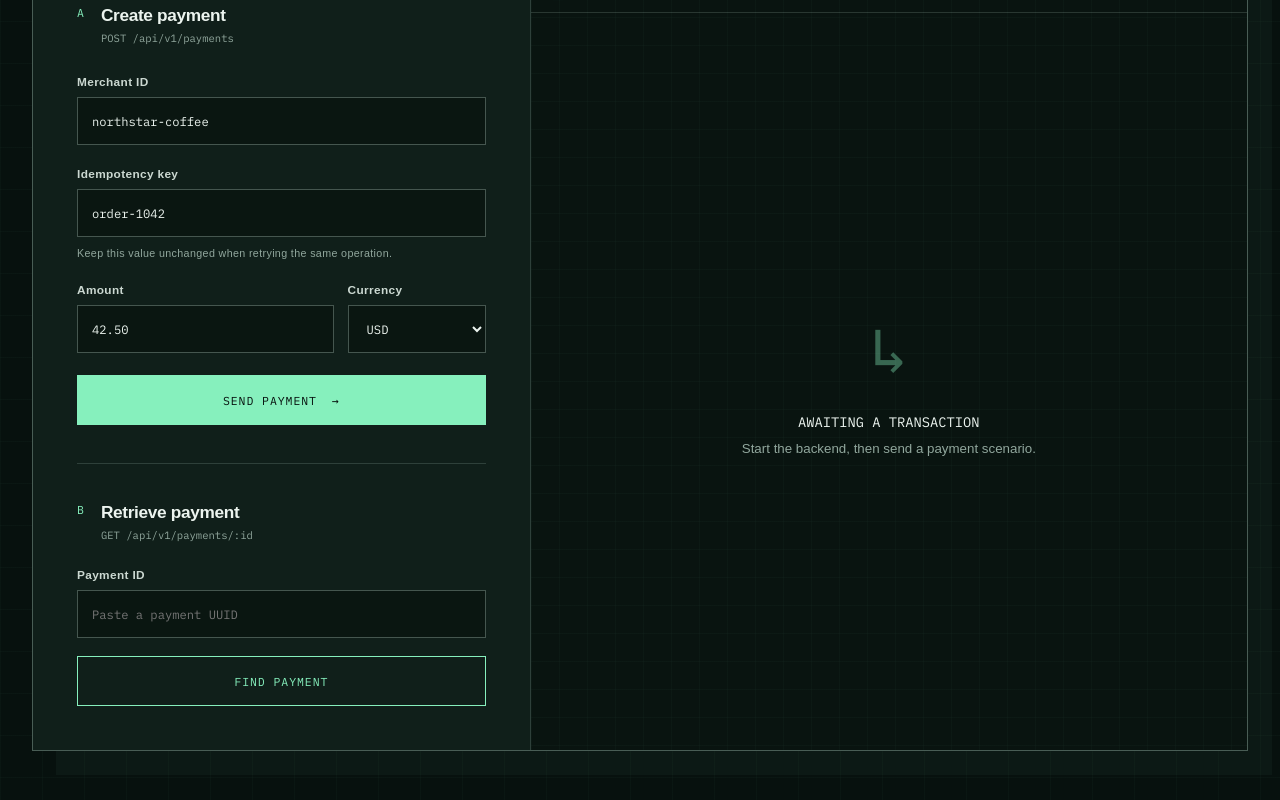
Scenario: Payment Reliability Console › makes an idempotency conflict understandable
(page scrolled)
Click the button "Send payment →": (281, 400) [77,375,486,425]
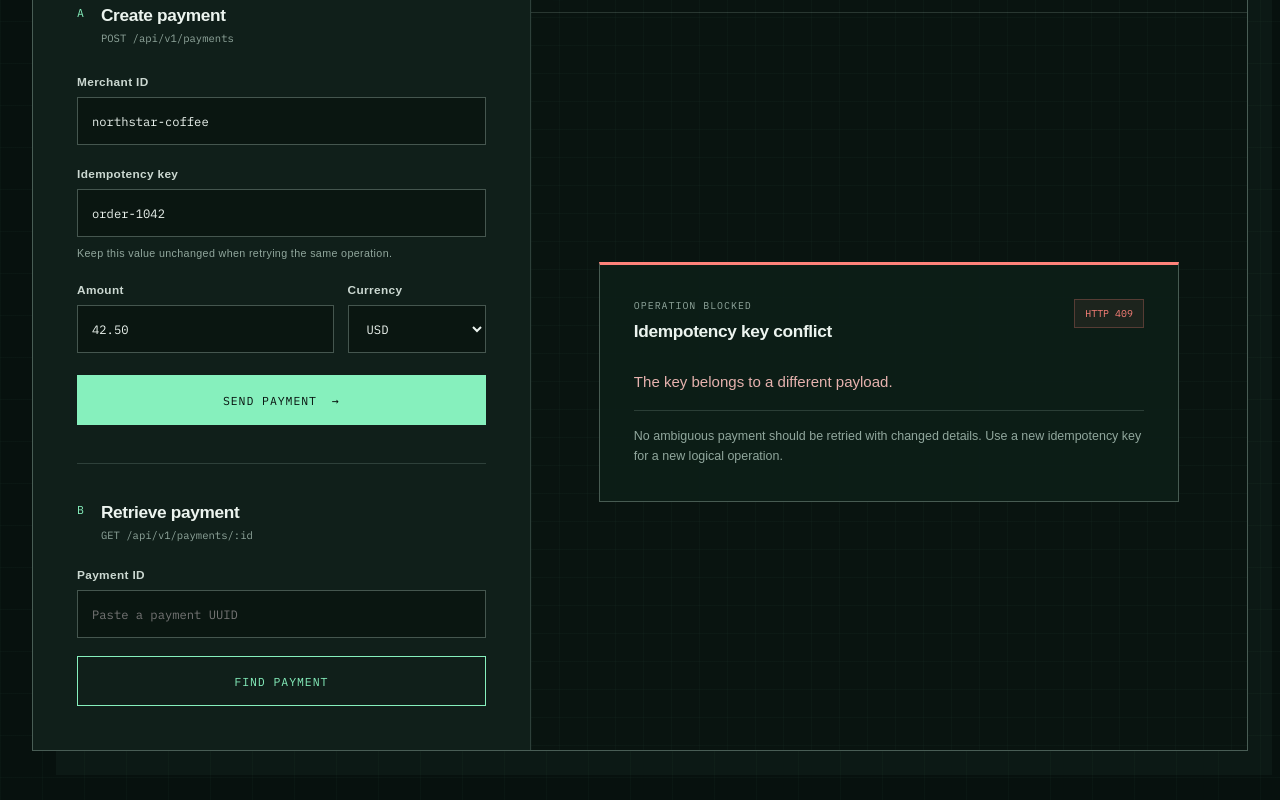
Result: the heading "Idempotency key conflict" is shown at [634,321,832,342]
Result: the text "The key belongs to a different payload." is shown at [634,373,893,390]
Result: the text "HTTP 409" is shown at [1074,299,1144,328]
